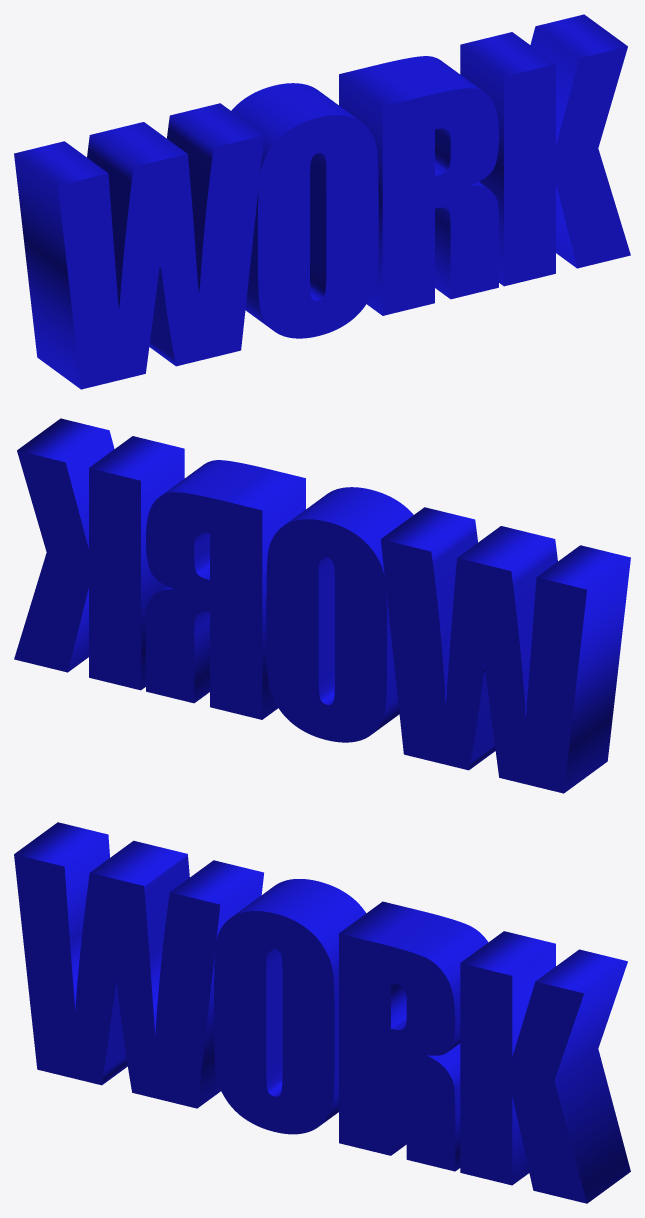
The model's file is WorkText.fbx.
3 views of the same model, one above another, from view 1: azimuth 30°, elevation 25°; view 2: azimuth 150°, elevation 25°; view 3: azimuth 330°, elevation 25° (orthographic).
Visible parts, largest first — view 1: WORK; view 2: WORK; view 3: WORK.
Part boxes in pixels (box(x1,y1,x2,y2)): WORK: box(14, 14, 630, 389); WORK: box(14, 418, 630, 793); WORK: box(14, 822, 630, 1203).
Bounding box in the file's own units: 1913 × 697 × 254.
